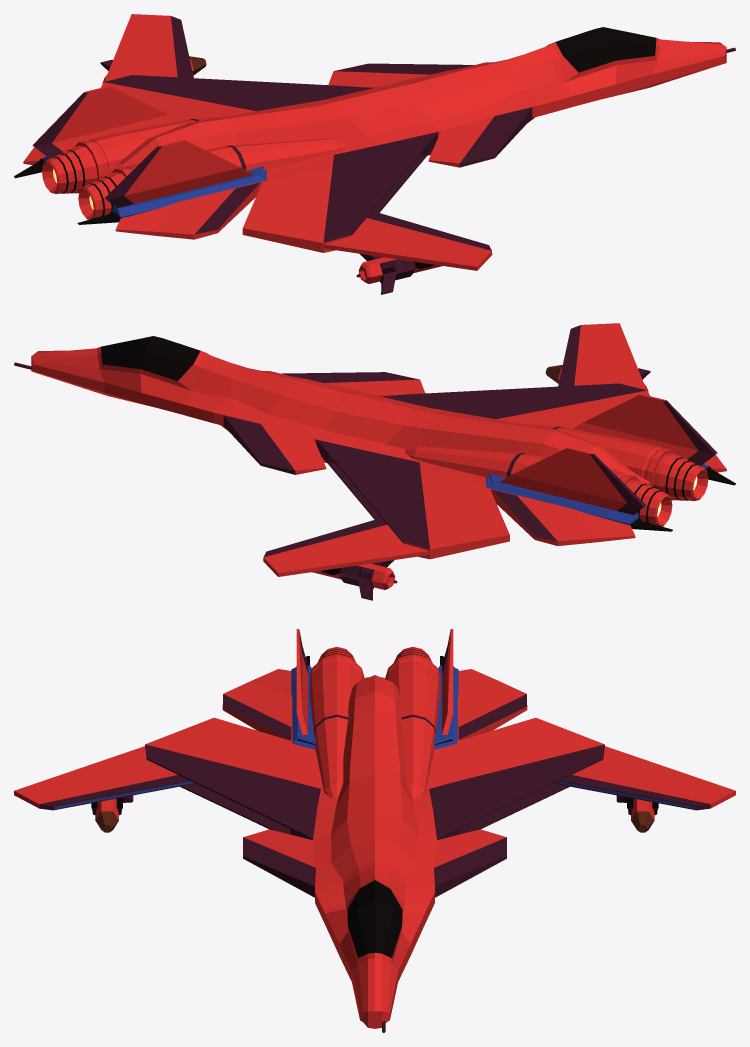
File: red-jet.glb
The picture shows the model from 3 angles, top to bottom: view 1: azimuth 30°, elevation 25°; view 2: azimuth 150°, elevation 25°; view 3: azimuth 270°, elevation 25°; orthographic projection. The views are drawn at different scales.
Visible parts, largest first — view 1: Cube, Cube.001, Cylinder, Cube.002, Cylinder.002; view 2: Cube, Cube.001, Cylinder, Cube.002, Cylinder.002; view 3: Cube, Cylinder, Cube.001, Cube.002, Cylinder.002.
Part boxes in pixels (x1,y1,x2,y2): Cube: (23, 14, 726, 270); Cube.001: (32, 85, 252, 207); Cylinder: (42, 116, 349, 219); Cube.002: (14, 156, 266, 224); Cylinder.002: (100, 56, 442, 294); Cube: (31, 323, 726, 576); Cube.001: (499, 394, 717, 514); Cylinder: (404, 424, 708, 526); Cube.002: (486, 464, 735, 531); Cylinder.002: (312, 365, 650, 600); Cube: (14, 669, 735, 1028); Cylinder: (309, 647, 440, 798); Cube.001: (296, 629, 453, 734); Cube.002: (291, 656, 458, 749); Cylinder.002: (91, 795, 658, 832).
Size of the model in its own units: 23.62 by 3.32 by 20.4.
